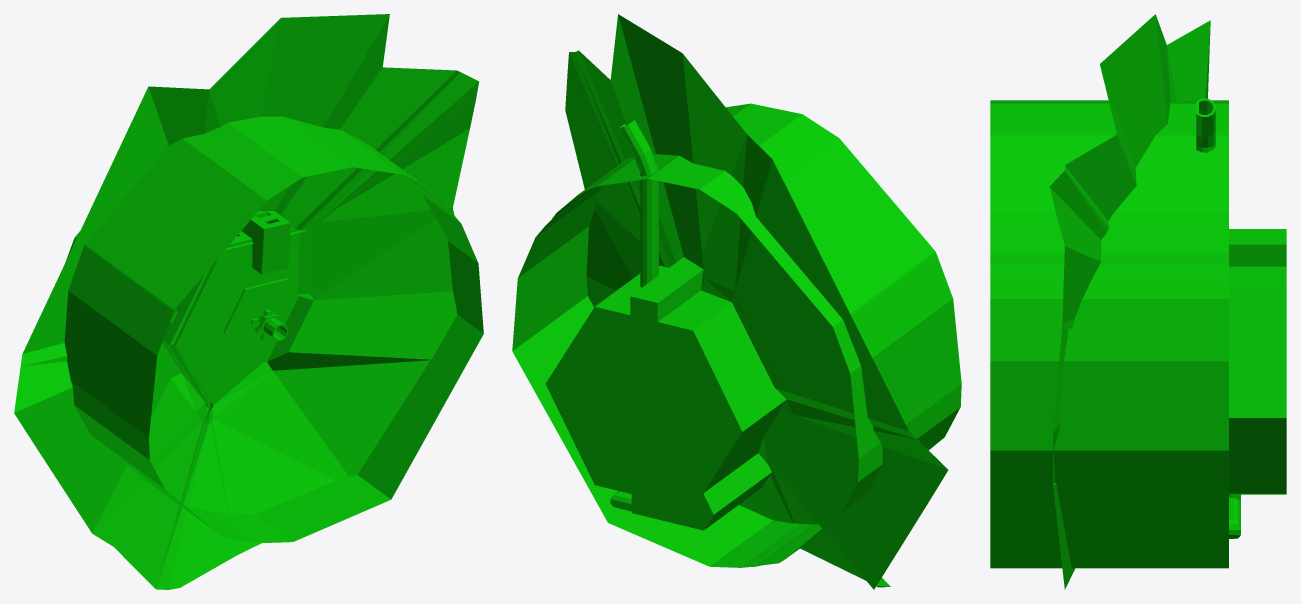
Rendered from final_0000_col.obj.
3 renders of one model, left to right at view 1: azimuth 30°, elevation 25°; view 2: azimuth 150°, elevation 25°; view 3: azimuth 270°, elevation 25°, orthographic. The views are drawn at different scales.
Visible parts, largest first — view 1: Object.019_Brep_019f3785-9111-4e60-9592-9edfd0a38bc6.016; view 2: Object.019_Brep_019f3785-9111-4e60-9592-9edfd0a38bc6.016; view 3: Object.019_Brep_019f3785-9111-4e60-9592-9edfd0a38bc6.016.
Boxes of the visible parts, left/top/right/bottom form: Object.019_Brep_019f3785-9111-4e60-9592-9edfd0a38bc6.016: left=14, top=14, right=483, bottom=589; Object.019_Brep_019f3785-9111-4e60-9592-9edfd0a38bc6.016: left=512, top=14, right=961, bottom=589; Object.019_Brep_019f3785-9111-4e60-9592-9edfd0a38bc6.016: left=990, top=14, right=1286, bottom=589.
Bounding box in the file's own units: 1552 × 1809 × 797.
